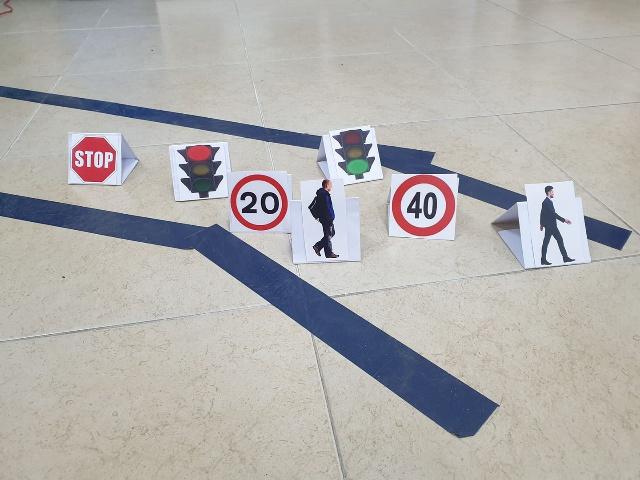Green: (332, 131, 381, 181)
Limit 20: (230, 172, 287, 232)
Limit 40: (393, 176, 454, 234)
Person: (531, 181, 575, 266), (307, 180, 344, 263)
Red: (171, 143, 223, 197)
Stop: (71, 137, 118, 183)
